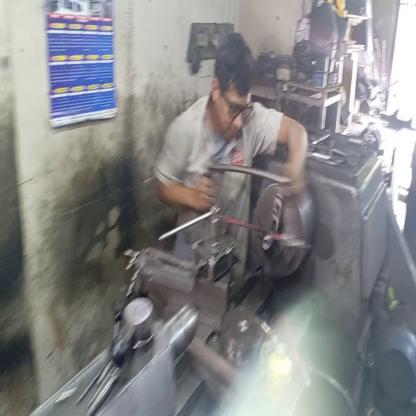lentes: (222, 90, 254, 124)
